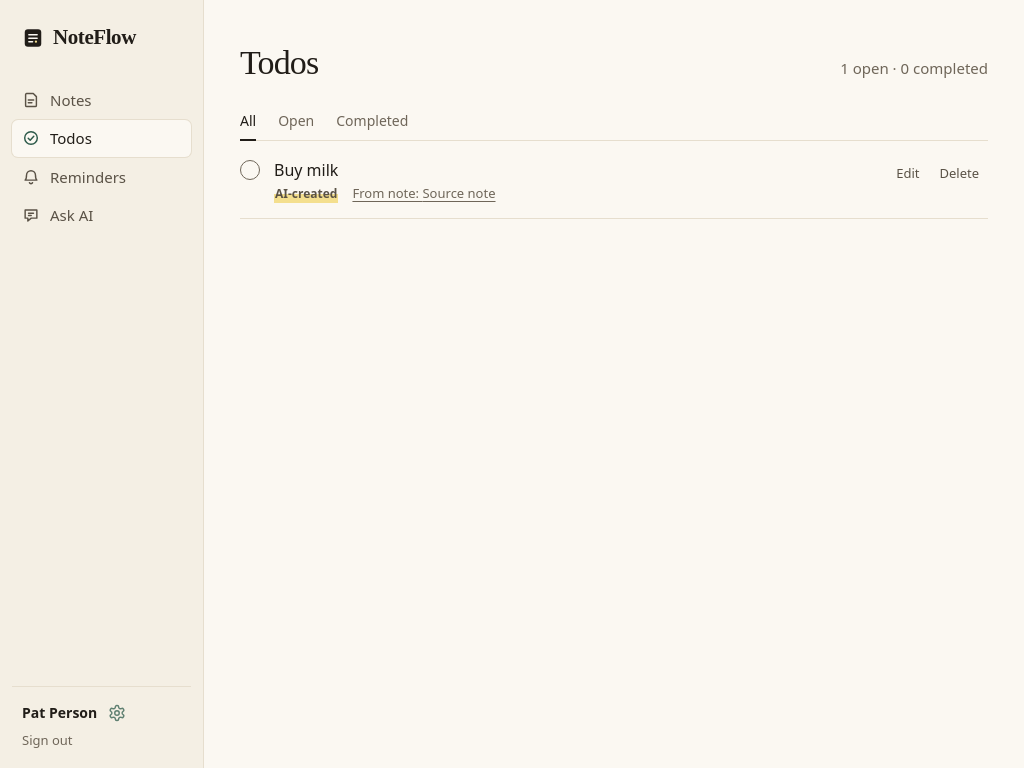
completion › shows an error and keeps the old state when toggling fails
Click the checkbox named "buy milk" at (250, 170), box [240, 160, 260, 180]
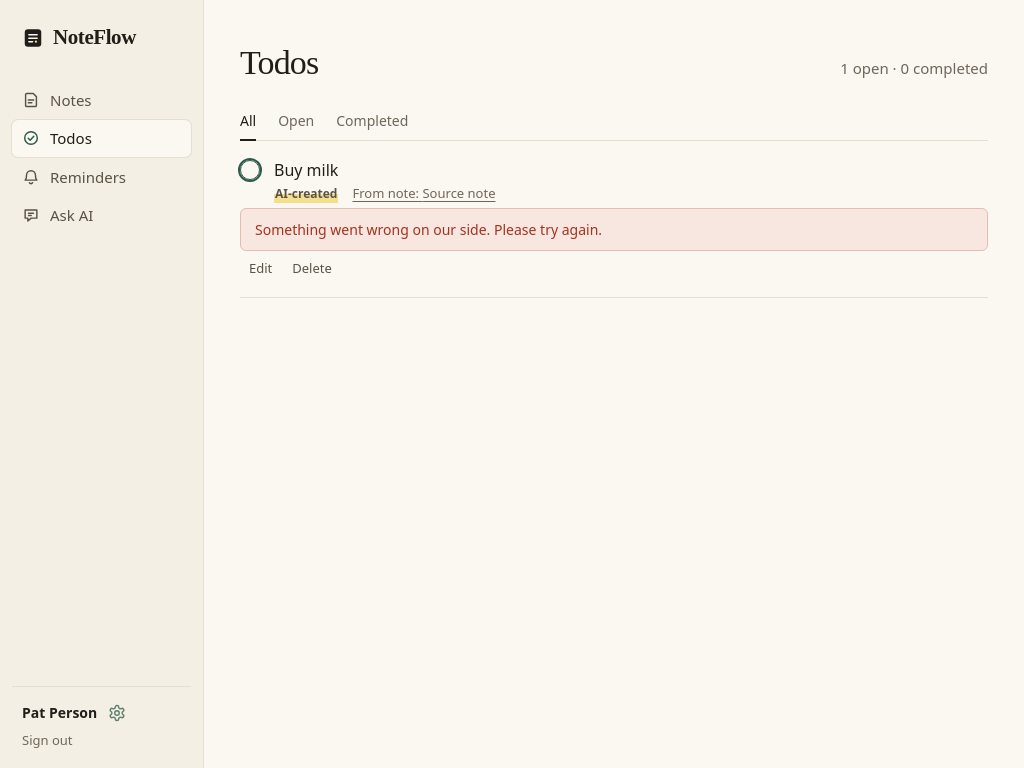
Expected: the message shows "Something went wrong", [255, 220, 602, 239]
